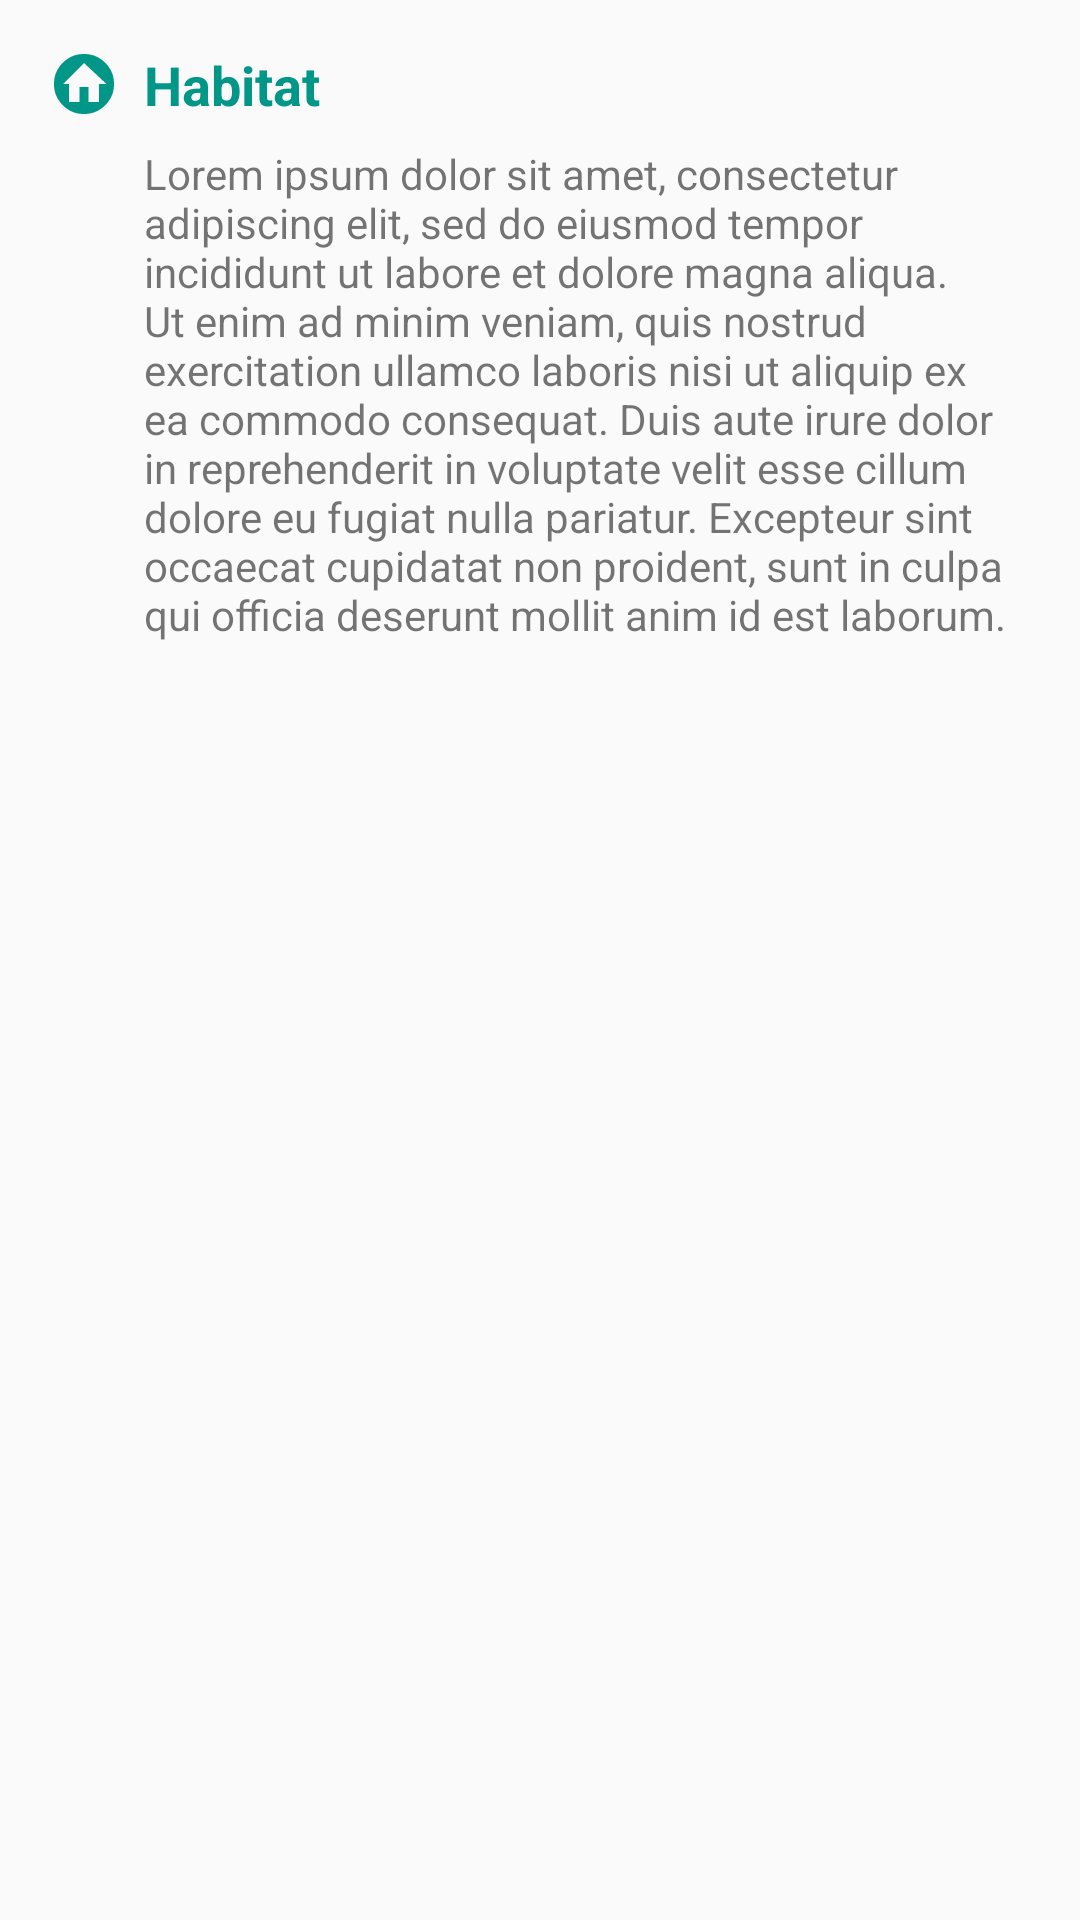

Where to tap for icons on this 1080w x 1920h app screen, as (x=x, y=y):
home circle: (x=84, y=84)
